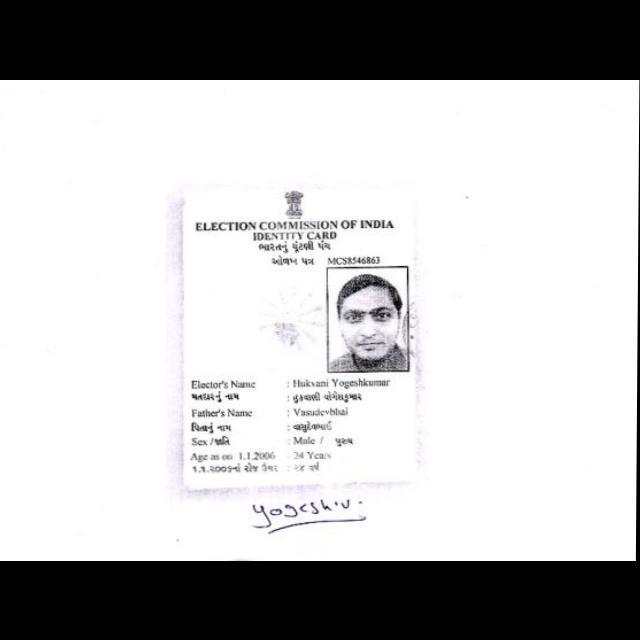voter_id: (170, 173, 432, 491)
